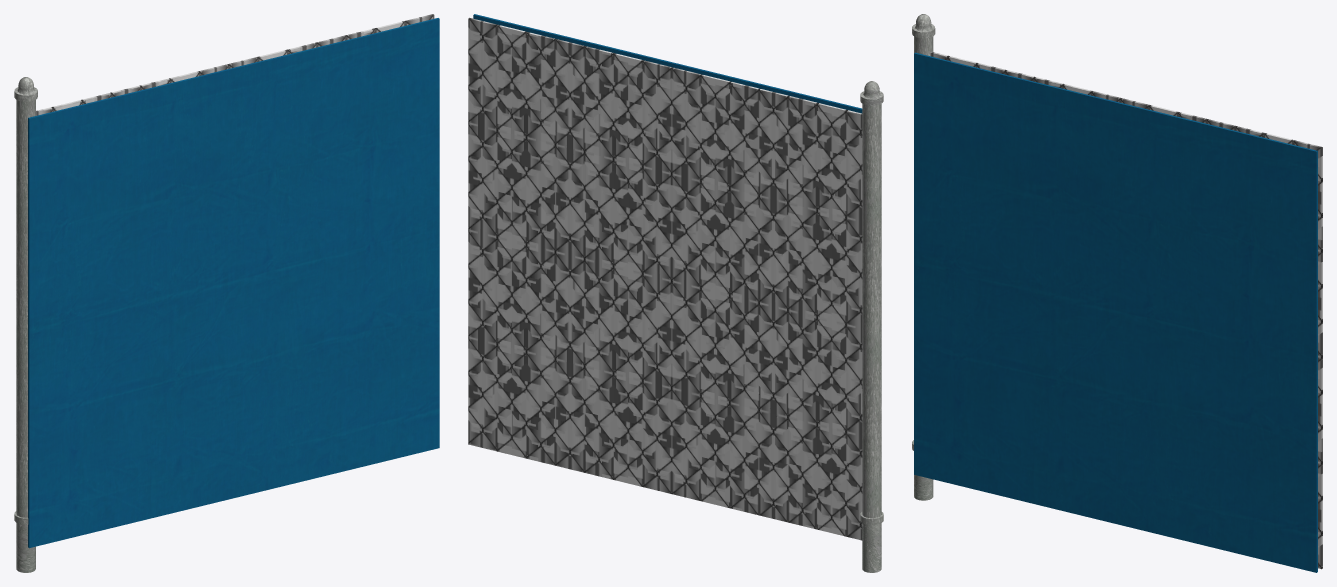
The model's file is fence.fbx.
3 views of the same model, side by side, from view 1: azimuth 30°, elevation 25°; view 2: azimuth 150°, elevation 25°; view 3: azimuth 330°, elevation 25° (orthographic).
Parts seen in each view (by area): view 1: Tarp, FencePole, Fence; view 2: Fence, FencePole, Tarp; view 3: Tarp, Fence, FencePole.
Boxes of the visible parts, bbox=[...] form: Tarp: bbox=[28, 18, 439, 548]; FencePole: bbox=[14, 77, 37, 572]; Fence: bbox=[36, 14, 434, 115]; Fence: bbox=[468, 17, 862, 540]; FencePole: bbox=[860, 81, 883, 572]; Tarp: bbox=[473, 14, 862, 113]; Tarp: bbox=[914, 52, 1317, 572]; Fence: bbox=[930, 52, 1322, 569]; FencePole: bbox=[912, 14, 935, 500].
Size of the model in its own units: 199 by 224 by 10.18.
